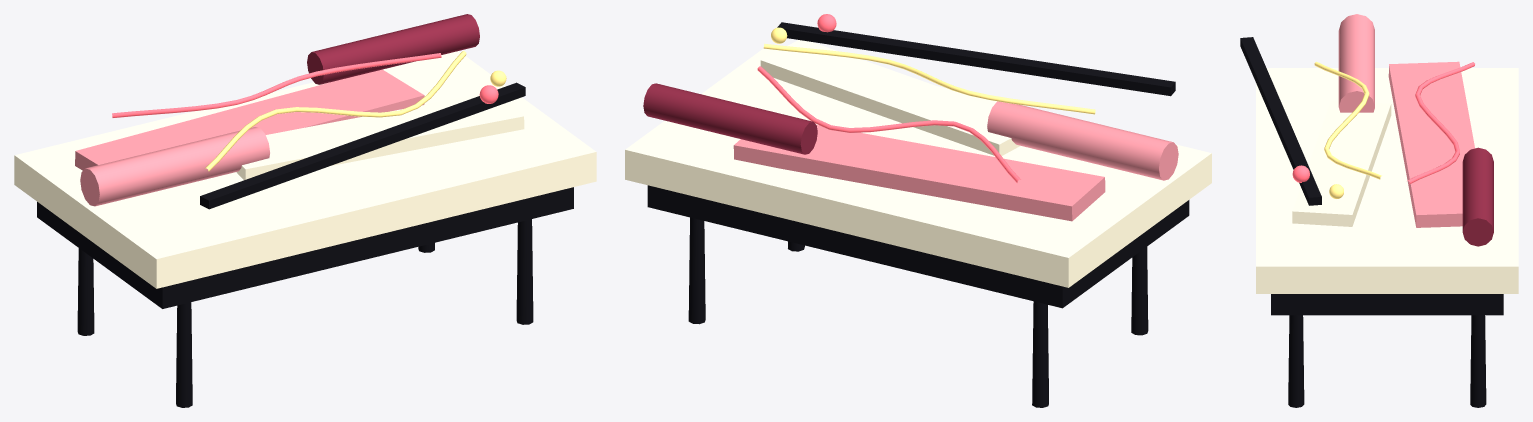
Rendered from atelier-cutting-island.glb.
The picture shows the model from 3 angles, left to right: view 1: azimuth 30°, elevation 25°; view 2: azimuth 150°, elevation 25°; view 3: azimuth 270°, elevation 25°; orthographic projection. The views are drawn at different scales.
Parts seen in each view (by area): view 1: cutting-island-top, cutting-island-frame, coral-fabric-yardage, cream-pattern-yardage, fabric-roll-one, fabric-roll-two, long-tailor-ruler, chalk-pattern-curve-a, chalk-pattern-curve-b, table-leg-0.72-0.36, table-leg--0.72-0.36, table-leg--0.72--0.36; view 2: cutting-island-top, coral-fabric-yardage, cutting-island-frame, cream-pattern-yardage, fabric-roll-one, long-tailor-ruler, fabric-roll-two, chalk-pattern-curve-b, chalk-pattern-curve-a, table-leg-0.72--0.36, table-leg--0.72--0.36, table-leg--0.72-0.36; view 3: cutting-island-top, coral-fabric-yardage, cream-pattern-yardage, cutting-island-frame, fabric-roll-one, fabric-roll-two, long-tailor-ruler, table-leg-0.72--0.36, table-leg-0.72-0.36, chalk-pattern-curve-a, chalk-pattern-curve-b.
Part boxes in pixels (bbox=[...]): cutting-island-top: bbox=[14, 51, 596, 288]; cutting-island-frame: bbox=[37, 187, 573, 308]; coral-fabric-yardage: bbox=[75, 69, 424, 170]; cream-pattern-yardage: bbox=[236, 94, 524, 180]; fabric-roll-one: bbox=[80, 127, 269, 206]; fabric-roll-two: bbox=[307, 14, 479, 84]; long-tailor-ruler: bbox=[200, 82, 525, 209]; chalk-pattern-curve-a: bbox=[112, 53, 441, 117]; chalk-pattern-curve-b: bbox=[205, 51, 466, 171]; table-leg-0.72-0.36: bbox=[516, 219, 533, 324]; table-leg--0.72-0.36: bbox=[176, 302, 192, 407]; table-leg--0.72--0.36: bbox=[77, 248, 94, 335]; cutting-island-top: bbox=[625, 48, 1211, 287]; coral-fabric-yardage: bbox=[733, 125, 1105, 221]; cutting-island-frame: bbox=[647, 185, 1189, 308]; cream-pattern-yardage: bbox=[760, 40, 1020, 155]; fabric-roll-one: bbox=[987, 101, 1178, 180]; long-tailor-ruler: bbox=[777, 22, 1175, 96]; fabric-roll-two: bbox=[643, 83, 817, 154]; chalk-pattern-curve-b: bbox=[763, 43, 1095, 114]; chalk-pattern-curve-a: bbox=[757, 66, 1020, 182]; table-leg-0.72--0.36: bbox=[688, 217, 705, 324]; table-leg--0.72--0.36: bbox=[1032, 301, 1048, 407]; table-leg--0.72-0.36: bbox=[1131, 247, 1148, 335]; cutting-island-top: bbox=[1256, 68, 1518, 293]; coral-fabric-yardage: bbox=[1388, 61, 1474, 227]; cream-pattern-yardage: bbox=[1292, 100, 1391, 226]; cutting-island-frame: bbox=[1271, 294, 1503, 315]; fabric-roll-one: bbox=[1338, 14, 1374, 112]; fabric-roll-two: bbox=[1462, 147, 1493, 246]; long-tailor-ruler: bbox=[1240, 37, 1321, 205]; table-leg-0.72--0.36: bbox=[1470, 315, 1486, 407]; table-leg-0.72-0.36: bbox=[1288, 315, 1304, 407]; chalk-pattern-curve-a: bbox=[1407, 62, 1474, 184]; chalk-pattern-curve-b: bbox=[1314, 61, 1381, 179].
Bounding box in the file's own units: 1.91 × 0.975 × 1.1.
